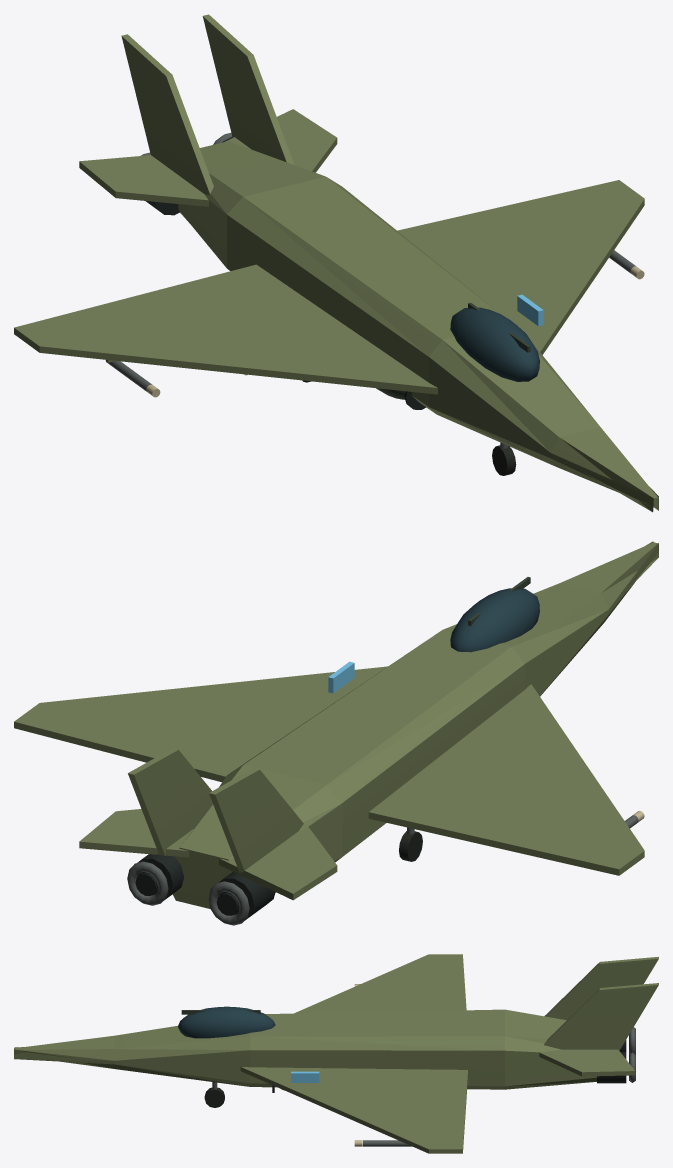
The model's file is bomber.glb.
3 views of the same model, one above another, from view 1: azimuth 30°, elevation 25°; view 2: azimuth 150°, elevation 25°; view 3: azimuth 270°, elevation 25° (orthographic). The views are drawn at different scales.
Parts seen in each view (by area): view 1: armor, glass, equipment; view 2: armor, equipment (×2), glass; view 3: armor, glass, equipment (×2), marking.
Part boxes in pixels (<box>): armor: <box>14,14,658,512</box>; glass: <box>450,307,539,381</box>; equipment: <box>105,133,644,409</box>; armor: <box>14,541,658,908</box>; equipment (×2): <box>127,577,644,925</box>; glass: <box>450,588,539,652</box>; armor: <box>14,954,658,1153</box>; glass: <box>178,1006,275,1038</box>; equipment (×2): <box>181,984,635,1146</box>; marking: <box>291,1071,319,1082</box>.
Bounding box in the file's own units: 8.2 × 2.64 × 11.45.
